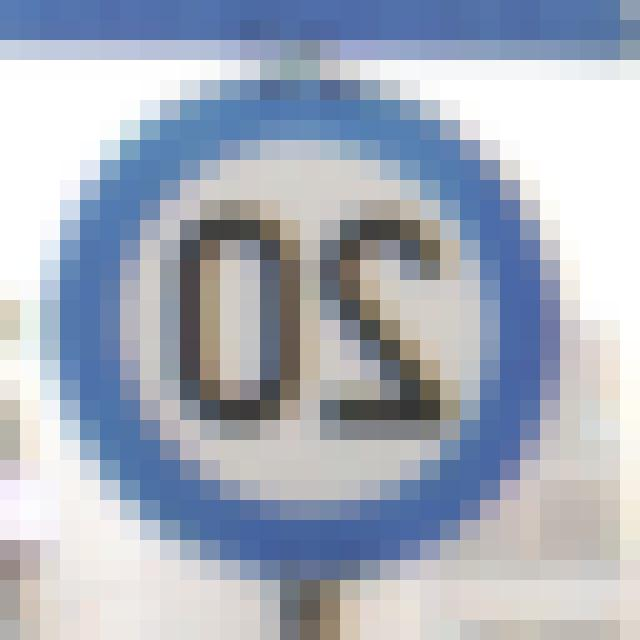SPEED LIMIT 20: (43, 76, 557, 594)
